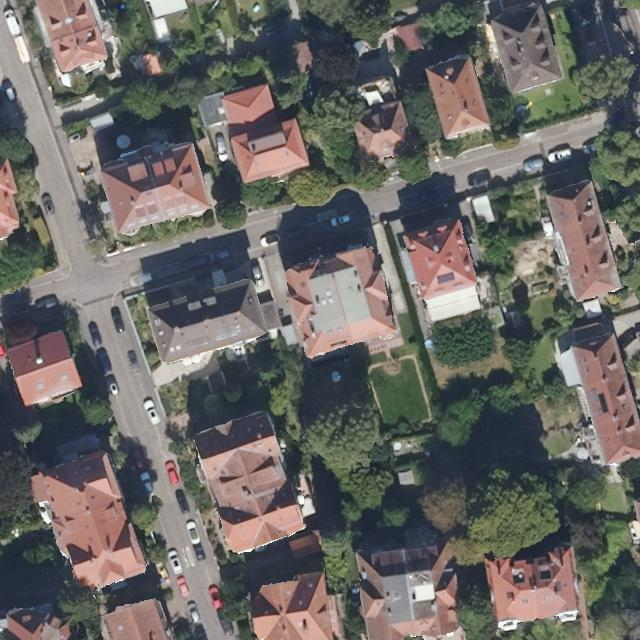PV: (436, 271, 456, 286)
